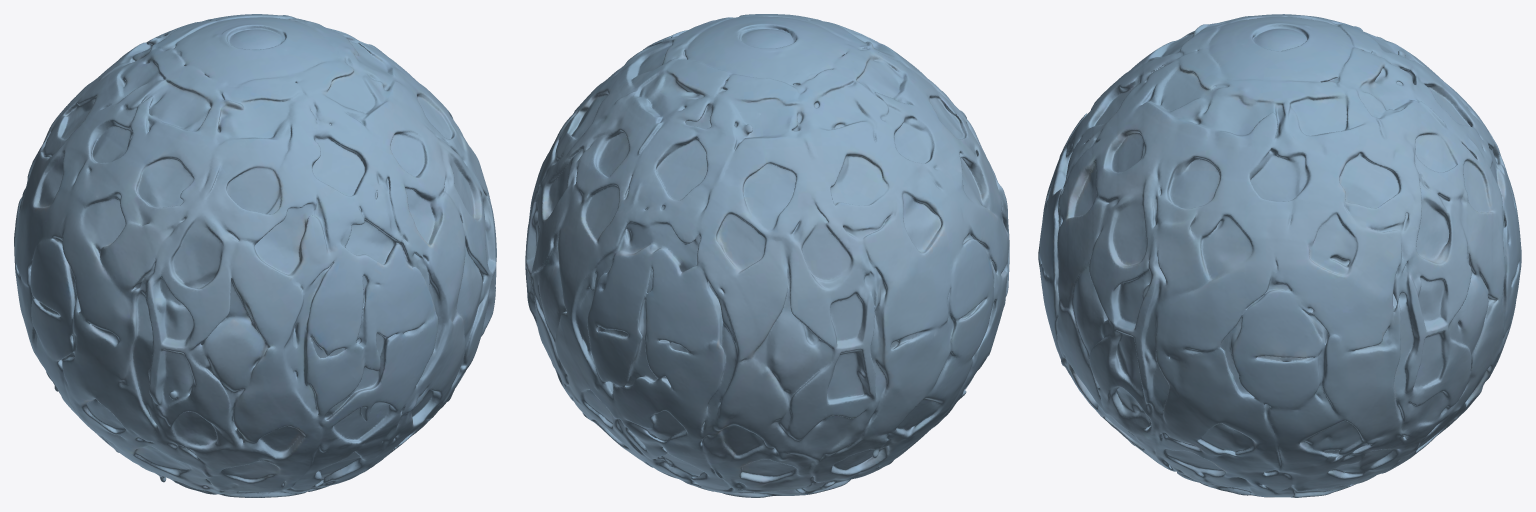
The model's file is detailed_realistic_model_crystalball_04.glb.
The picture shows the model from 3 angles, left to right: view 1: azimuth 30°, elevation 25°; view 2: azimuth 150°, elevation 25°; view 3: azimuth 270°, elevation 25°; orthographic projection.
Parts seen in each view (by area): view 1: tripo_node_136273b7-c7b5-4317-b380-3a0ea99b255f; view 2: tripo_node_136273b7-c7b5-4317-b380-3a0ea99b255f; view 3: tripo_node_136273b7-c7b5-4317-b380-3a0ea99b255f.
Boxes of the visible parts, x1,y1,x2,y2 form: tripo_node_136273b7-c7b5-4317-b380-3a0ea99b255f: (14,14,496,497); tripo_node_136273b7-c7b5-4317-b380-3a0ea99b255f: (525,14,1009,497); tripo_node_136273b7-c7b5-4317-b380-3a0ea99b255f: (1038,14,1521,497).
Bounding box in the file's own units: 0.9987 × 0.9999 × 0.998.
Materials: 1 (1 with a texture image).
